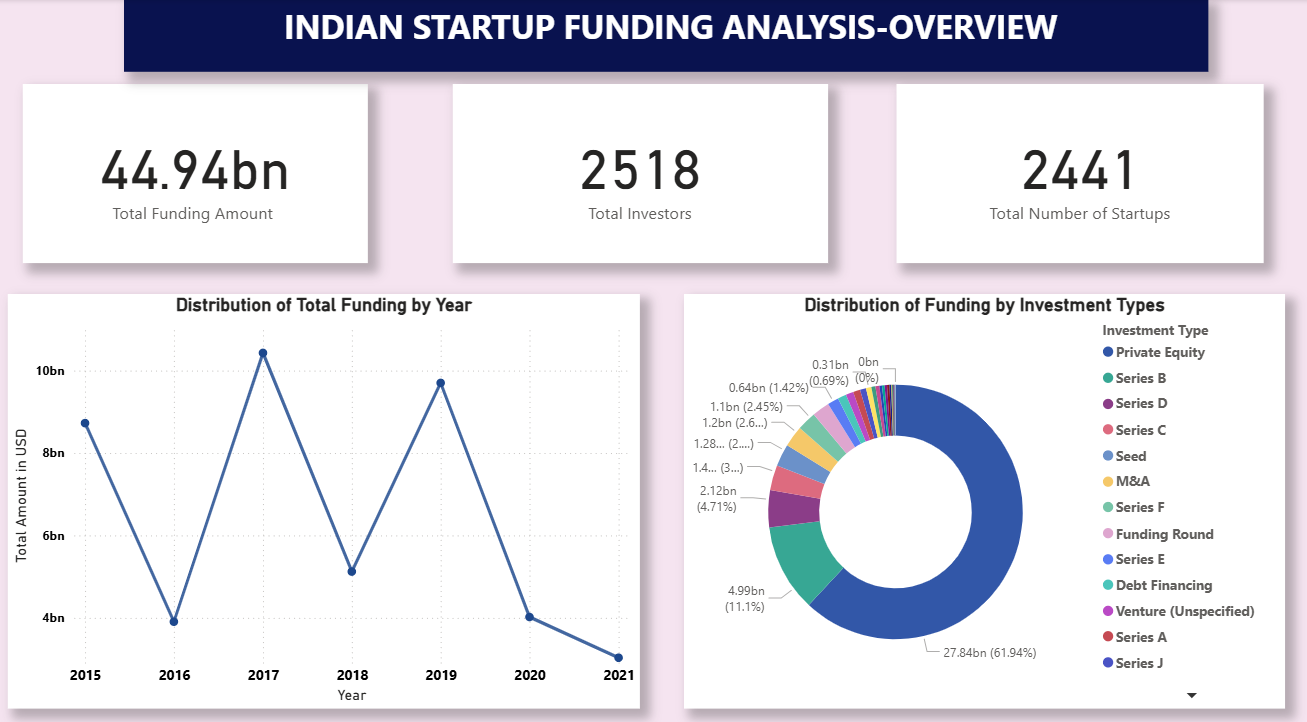

Layout of this report page (visuals, bound fields, positions):
{"tool":"powerbi","page":{"name":"Overview","canvas":[1280,720],"ordinal":0},"visuals":[{"type":"card","fields":{"Values":["Sum(indian_startup_funding csv.Amount in USD)"]},"box":[23.2,83.2,337.5,174.9],"z":0},{"type":"textbox","box":[122.1,0,1060.7,71.4],"z":1000},{"type":"card","fields":{"Values":["Count(indian_startup_funding csv.Investors)"]},"box":[443.9,83.2,366.8,174.9],"z":2000},{"type":"card","fields":{"Values":["Count(indian_startup_funding csv.Startup Name)"]},"box":[878,83.2,359.5,174.9],"z":3000},{"type":"lineChart","title":"Distribution of Total Funding by Year","fields":{"Category":["indian_startup_funding csv.Date.Variation.Date Hierarchy.Year"],"Y":["Sum(indian_startup_funding csv.Amount in USD)"]},"box":[8.6,288.6,618.8,406],"z":4000},{"type":"donutChart","title":"Distribution of Funding by Investment Types","fields":{"Category":["indian_startup_funding csv.Investment Type"],"Y":["Sum(indian_startup_funding csv.Amount in USD)"]},"box":[670.1,288.6,588.2,406],"z":5000}]}

Visuals, with their boxes in screenshot pixels (x1, y1, x2, y2), scaled from the page's 1280x720 canvas onto the 1307x722 screenshot:
card - Sum(indian_startup_funding csv.Amount in USD): locate(24, 83, 368, 259)
textbox: locate(125, 0, 1208, 72)
card - Count(indian_startup_funding csv.Investors): locate(453, 83, 828, 259)
card - Count(indian_startup_funding csv.Startup Name): locate(897, 83, 1264, 259)
"Distribution of Total Funding by Year" lineChart: locate(9, 289, 641, 697)
"Distribution of Funding by Investment Types" donutChart: locate(684, 289, 1285, 697)
